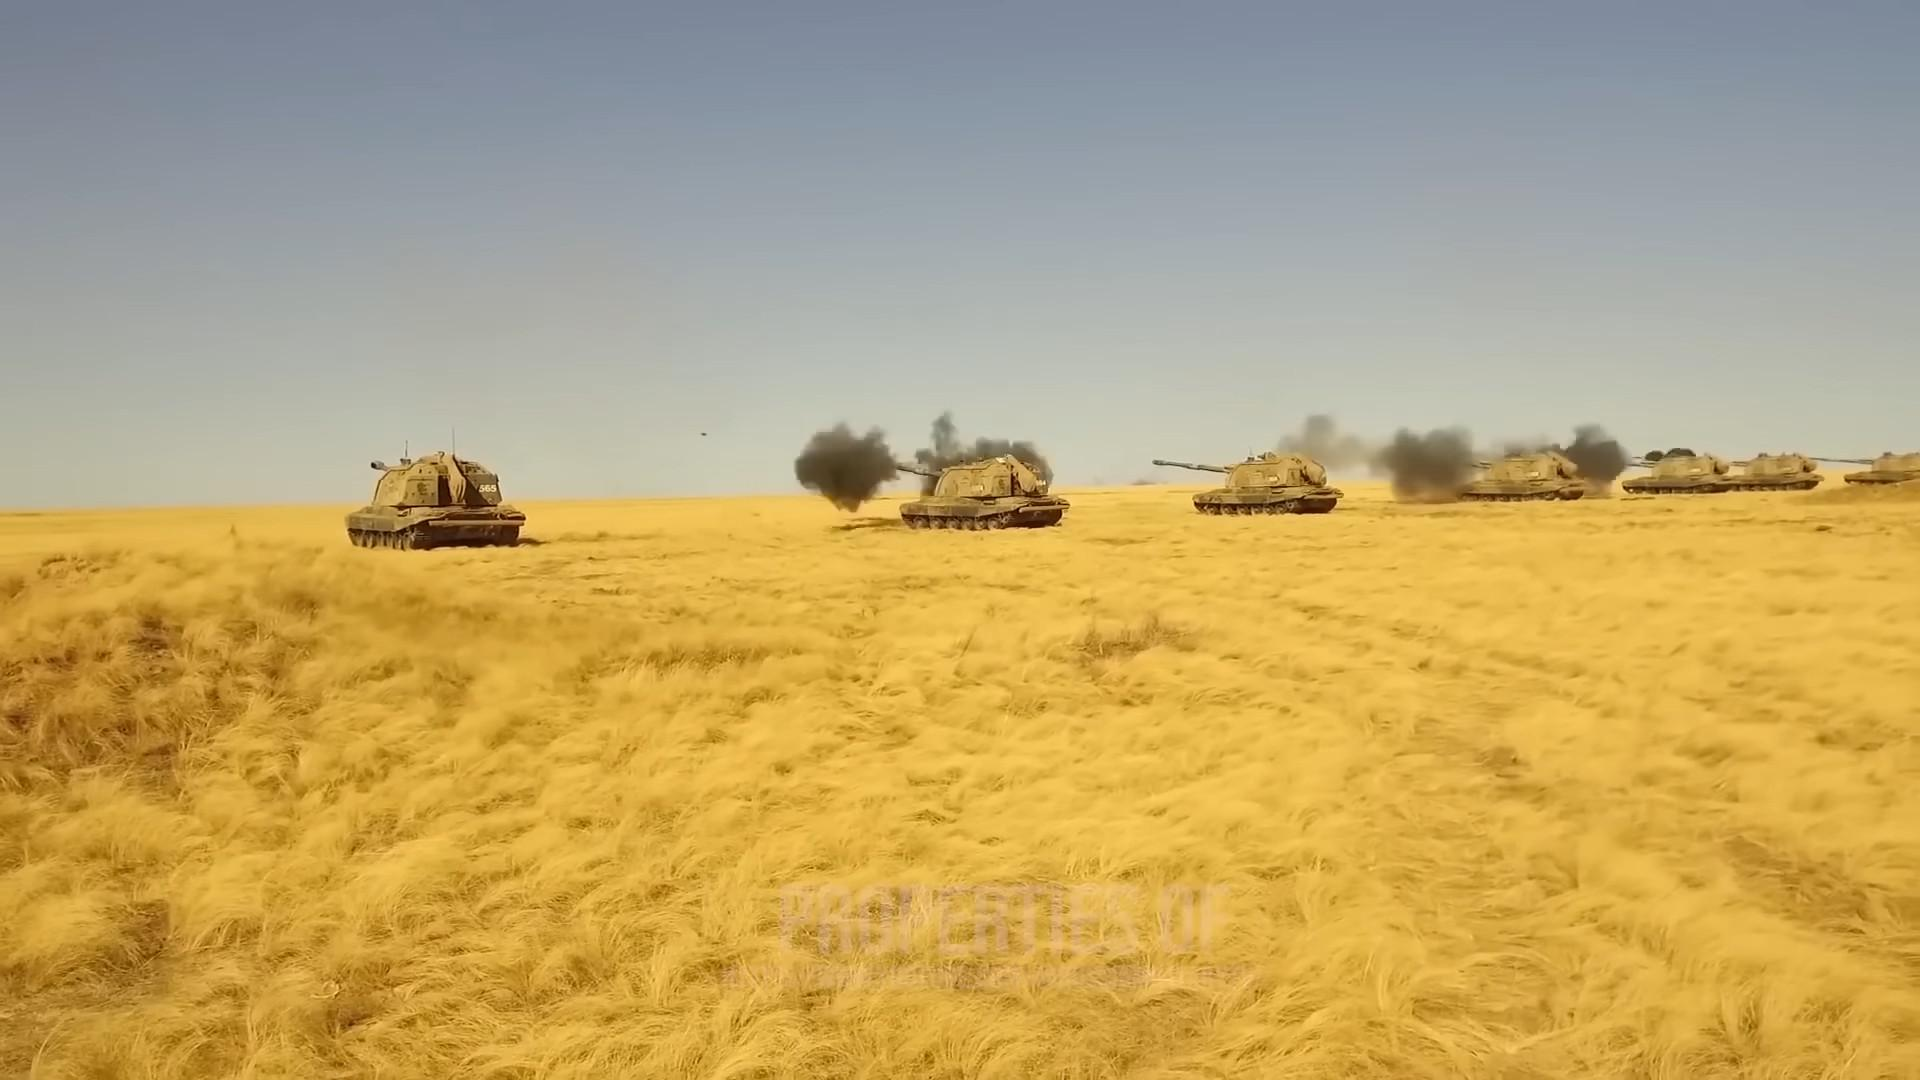tank: (343, 454, 526, 551), (894, 452, 1071, 533), (1153, 452, 1344, 517), (1456, 454, 1585, 501), (1621, 455, 1739, 496)
